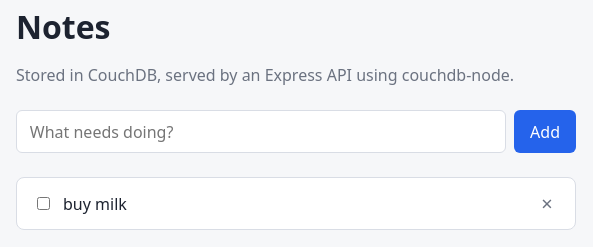
App › deletes a note
Click the button named "Delete buy milk".
click(547, 204)  # box [535,190,559,217]
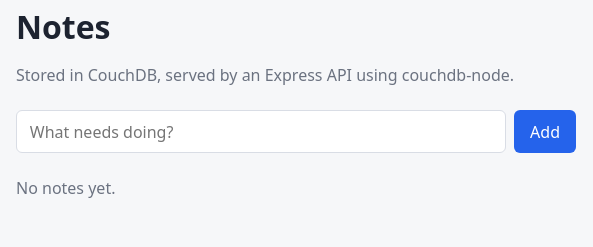
expect the text "No notes yet." is shown: met, box [16,177,116,199]
